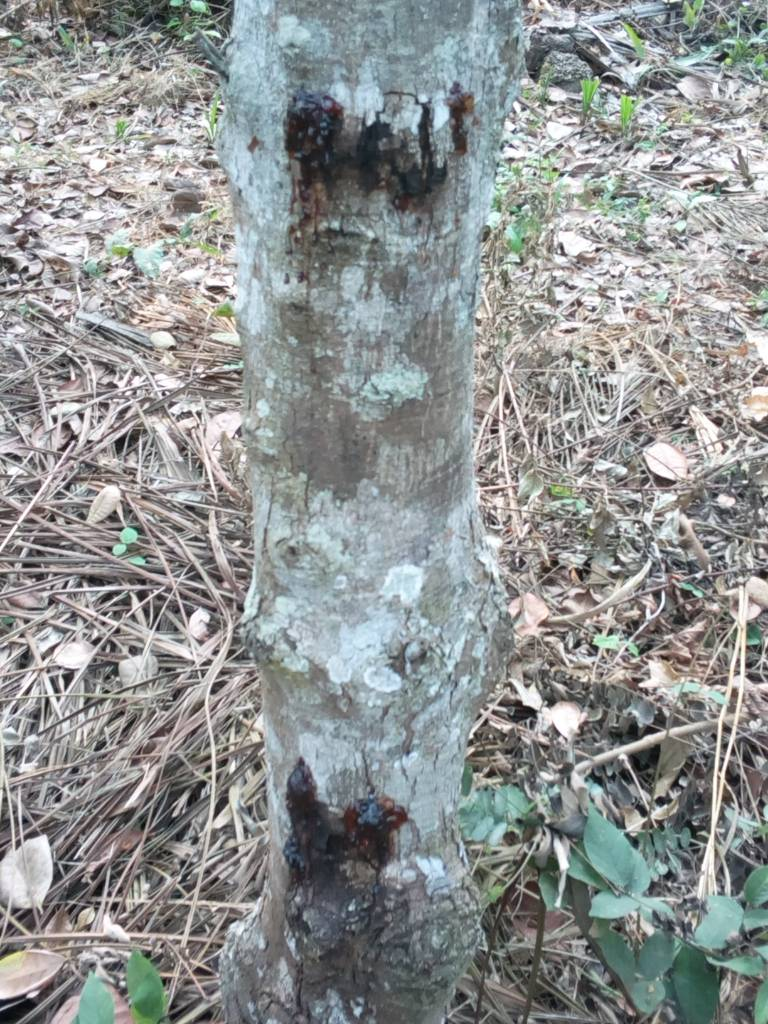Mecocorynus longiceps: (245, 78, 521, 262), (234, 740, 434, 925)
